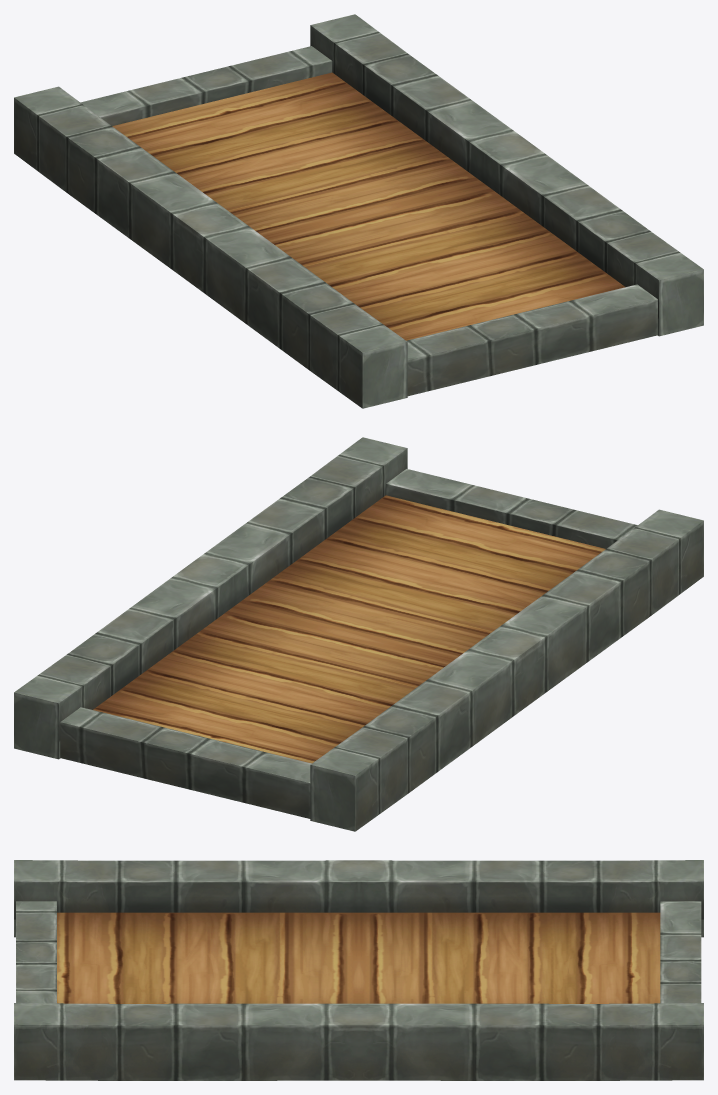
The model's file is bridge_03b_tile_06.fbx.
The picture shows the model from 3 angles, top to bottom: view 1: azimuth 30°, elevation 25°; view 2: azimuth 150°, elevation 25°; view 3: azimuth 270°, elevation 25°; orthographic projection.
Parts seen in each view (by area): view 1: bridge_03b_tile_06; view 2: bridge_03b_tile_06; view 3: bridge_03b_tile_06.
Boxes of the visible parts, x1=… form: bridge_03b_tile_06: x1=14, y1=14, x2=703, y2=408; bridge_03b_tile_06: x1=14, y1=437, x2=703, y2=831; bridge_03b_tile_06: x1=14, y1=860, x2=703, y2=1080.
Size of the model in its own units: 2.37 by 0.3764 by 4.19.
